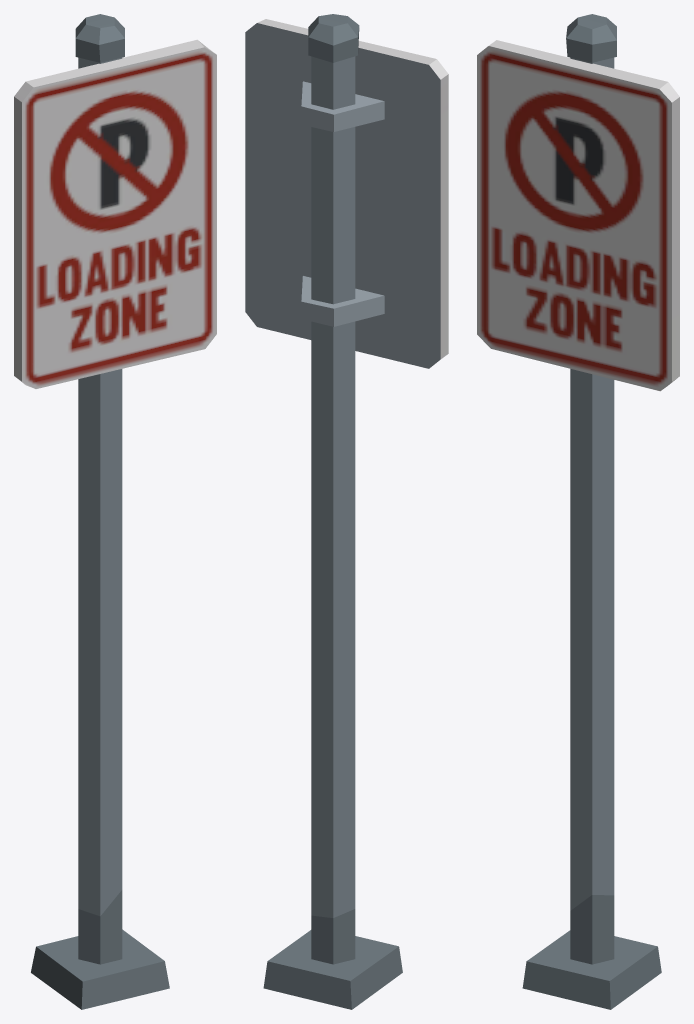
The model's file is SM_Sign_Post_02.obj.
3 views of the same model, side by side, from view 1: azimuth 30°, elevation 25°; view 2: azimuth 150°, elevation 25°; view 3: azimuth 330°, elevation 25° (orthographic).
Visible parts, largest first — view 1: SM_Sign_Post_02_0; view 2: SM_Sign_Post_02_0; view 3: SM_Sign_Post_02_0.
Boxes of the visible parts, left/top/right/bottom form: SM_Sign_Post_02_0: left=14, top=14, right=216, bottom=1009; SM_Sign_Post_02_0: left=245, top=14, right=448, bottom=1009; SM_Sign_Post_02_0: left=477, top=14, right=679, bottom=1009.
Bounding box in the file's own units: 0.3606 × 1.7 × 0.1632.
Materials: 1 (1 with a texture image).
